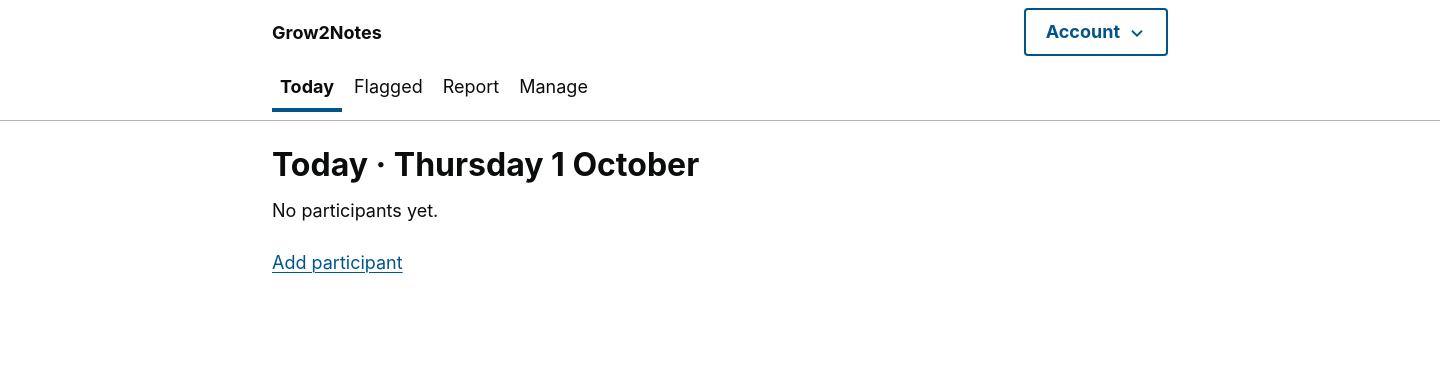
Test: the Account button and panel › names the display name from /me: Signed in as Sam Lee
Click the button "Account".
click(1096, 32)  # box [1024,8,1168,56]
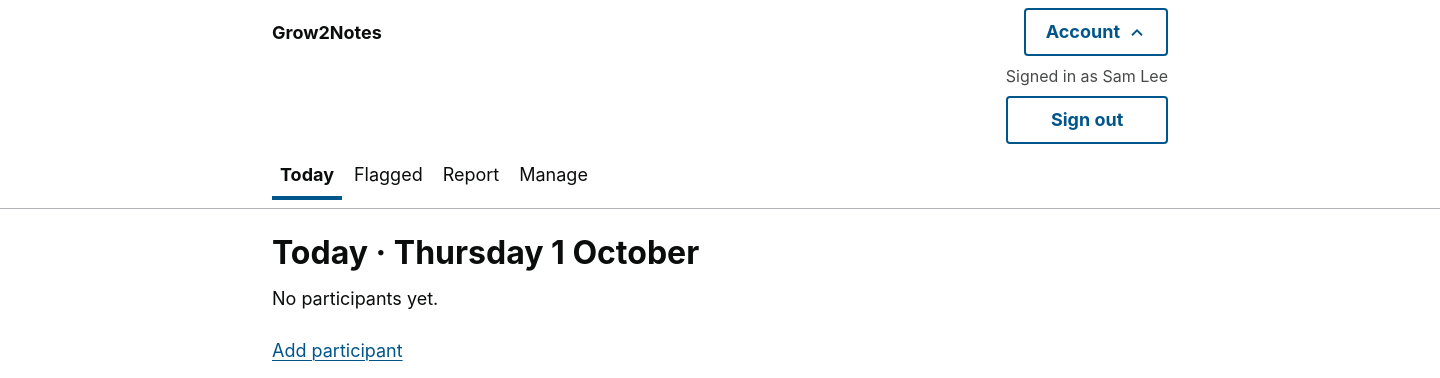
Result: the text "Signed in as Sam Lee" is shown at [1006,64,1168,88]
